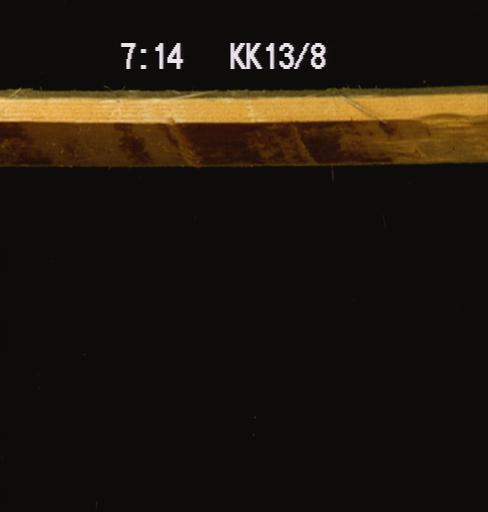wave: (0, 114, 484, 162)
